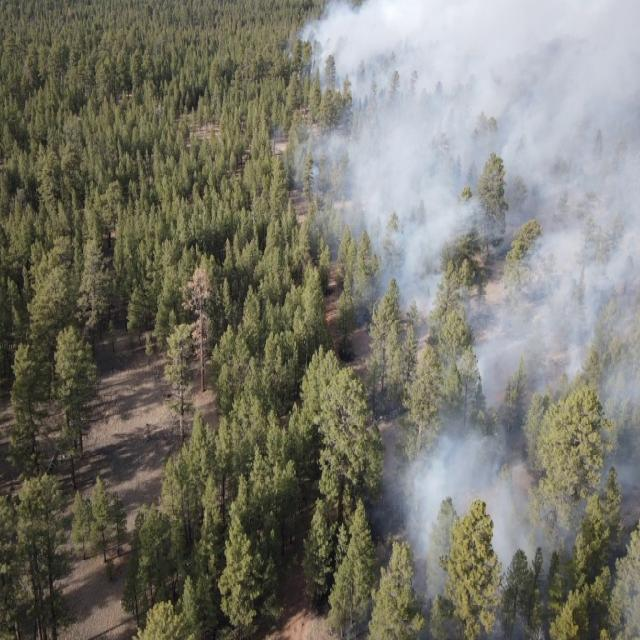smoke: (292, 0, 640, 288), (366, 287, 639, 640)
